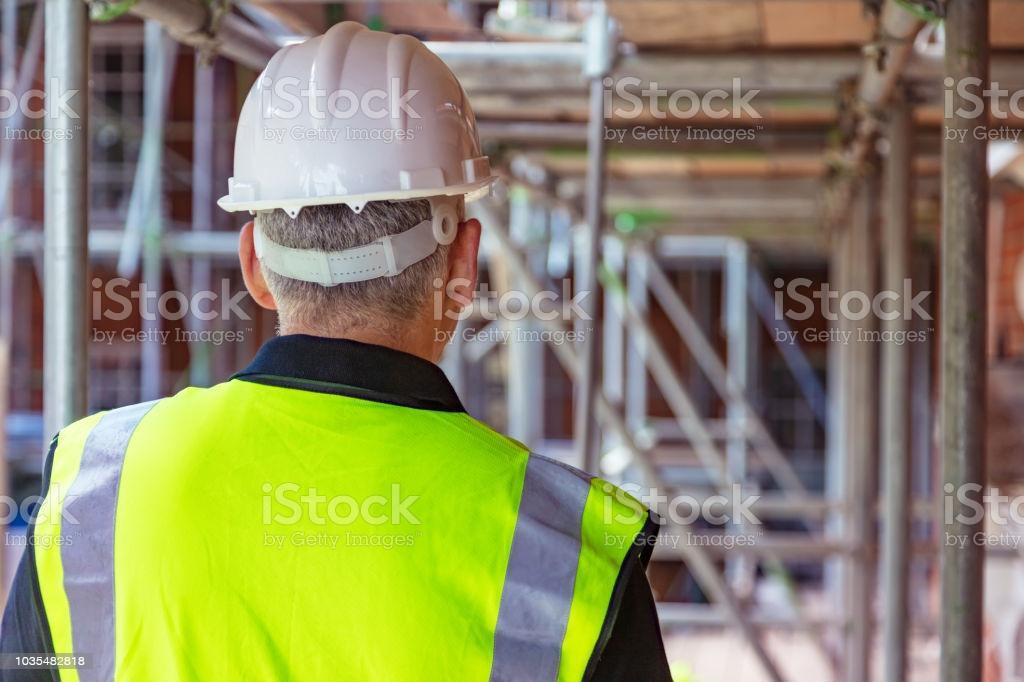hardhat: (218, 23, 500, 216)
worker: (5, 17, 684, 679)
